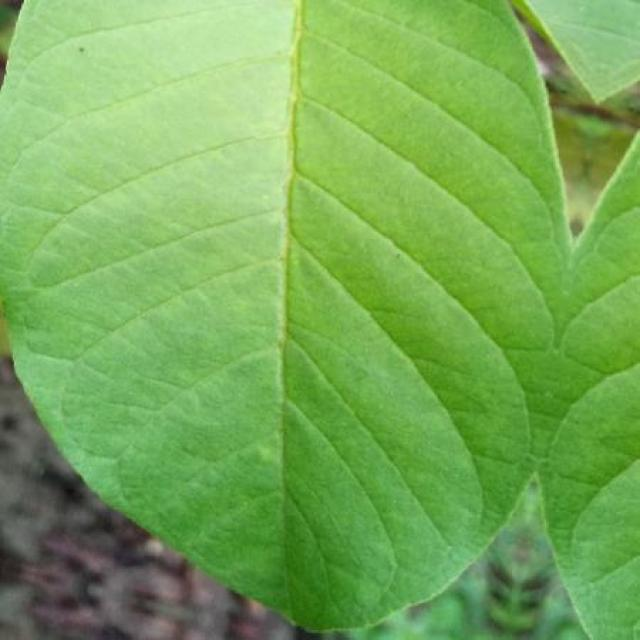Disease Free: (0, 0, 601, 627), (540, 136, 640, 640)
